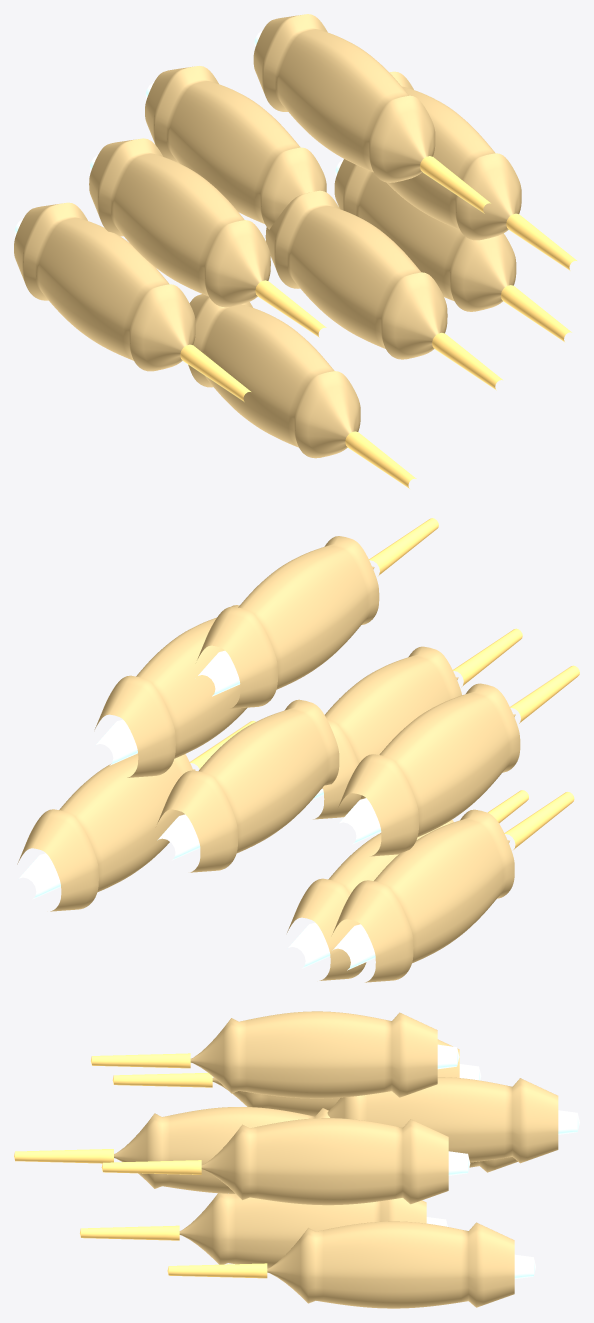
File: empire_swarm.glb
The picture shows the model from 3 angles, top to bottom: view 1: azimuth 30°, elevation 25°; view 2: azimuth 150°, elevation 25°; view 3: azimuth 270°, elevation 25°; orthographic projection. The views are drawn at different scales.
Visible parts, largest first — view 1: empire_swarm; view 2: empire_swarm; view 3: empire_swarm.
Boxes of the visible parts, left/top/right/bottom form: empire_swarm: left=14, top=14, right=576, bottom=488; empire_swarm: left=17, top=518, right=579, bottom=982; empire_swarm: left=14, top=1011, right=579, bottom=1308.
Bounding box in the file's own units: 1.67 × 1.43 × 2.58.
